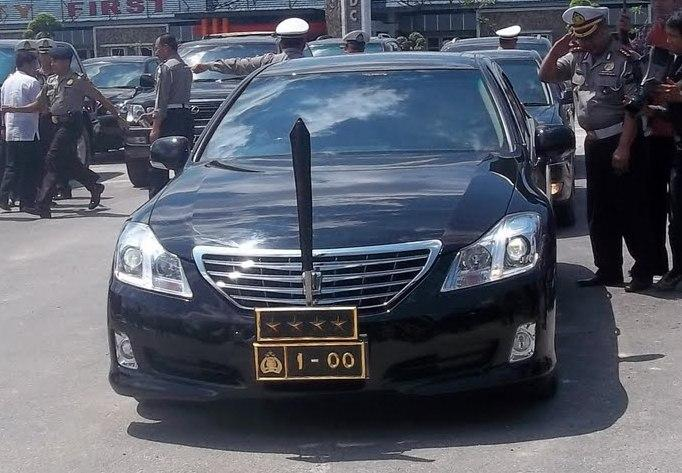plat nomor: (238, 338, 382, 398)
